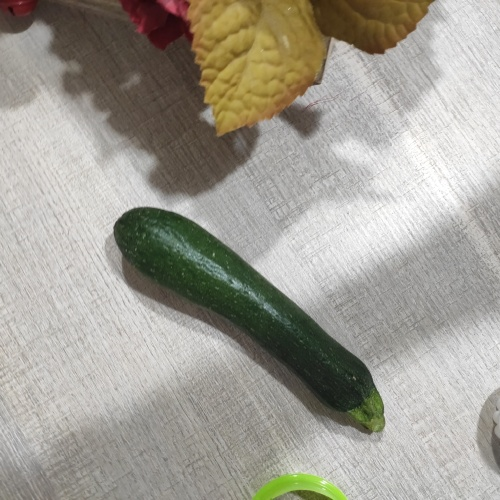zucchine: (113, 197, 411, 451)
